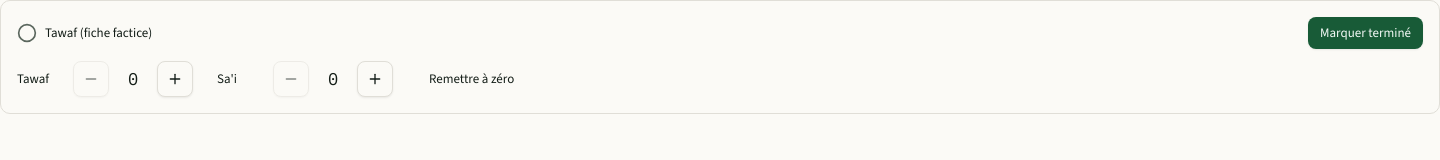
Test case: RiteProgressChecklist › ajoute un tour avec un horodatage client et affiche l'état renvoyé
Click the button named "Ajouter un tour de Tawaf" at (175, 79), box x1=157 y1=61 x2=193 y2=97
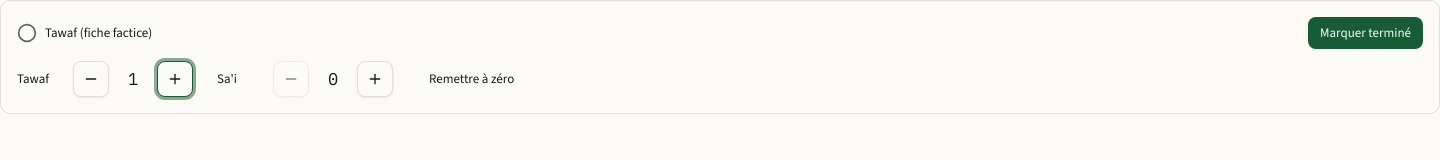
Now the text named "Tawaf : 1 tour" is shown, box x1=128 y1=68 x2=138 y2=90
